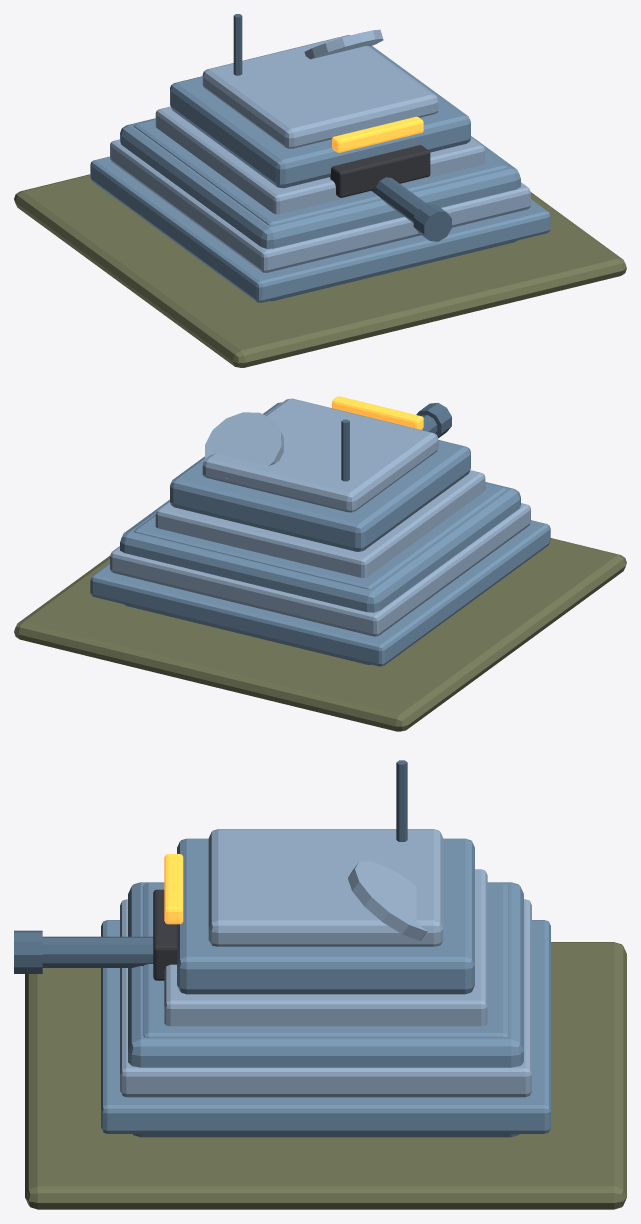
Rendered from dir_bastion.glb.
3 views of the same model, one above another, from view 1: azimuth 30°, elevation 25°; view 2: azimuth 150°, elevation 25°; view 3: azimuth 270°, elevation 25° (orthographic). The views are drawn at different scales.
Parts seen in each view (by area): view 1: dir_bastion; view 2: dir_bastion; view 3: dir_bastion.
Boxes of the visible parts, <box> form: dir_bastion: <box>14,14,626,367</box>; dir_bastion: <box>14,396,626,731</box>; dir_bastion: <box>14,760,626,1209</box>.
Bounding box in the file's own units: 1.9 × 1.01 × 1.94.
